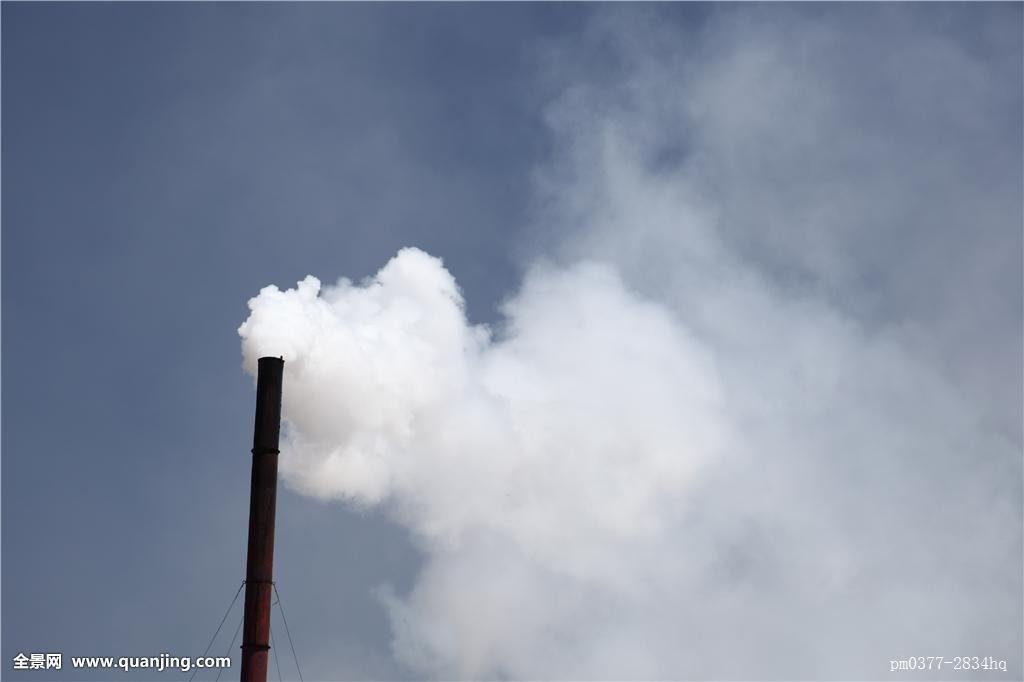dust: (222, 239, 514, 519)
